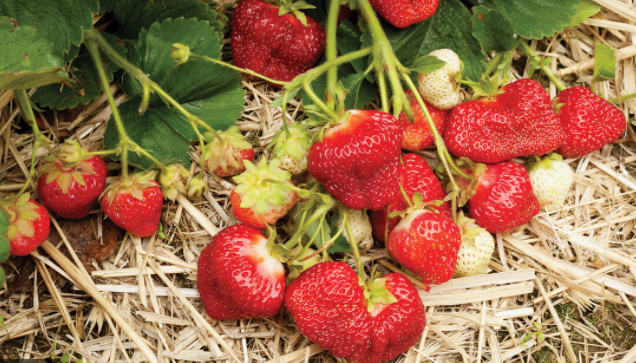ripe: (285, 262, 423, 361), (194, 221, 291, 322), (308, 105, 403, 208), (443, 75, 548, 162), (229, 3, 324, 84), (459, 157, 542, 237), (372, 152, 444, 244), (385, 210, 462, 283), (546, 85, 626, 152), (38, 152, 109, 218), (230, 164, 299, 224), (104, 171, 164, 239), (389, 85, 443, 150), (2, 190, 52, 258), (205, 130, 258, 177), (372, 0, 442, 29)
unripe: (415, 48, 468, 110), (527, 149, 580, 210), (449, 221, 494, 276), (329, 200, 375, 251)
